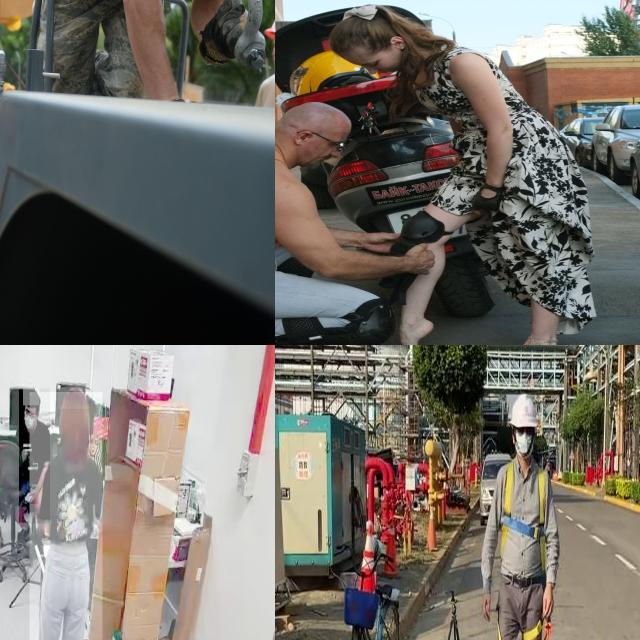Barefoots: (386, 318, 434, 345)
Harness: (502, 462, 546, 572)
face_mask: (23, 406, 37, 433)
hand_noglove: (29, 486, 39, 505)
head_nohelmet: (59, 386, 90, 409), (23, 388, 40, 406)
person: (29, 392, 102, 640), (19, 388, 50, 524)
